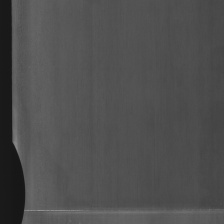welding_line: (22, 204, 224, 217), (12, 136, 29, 224)
